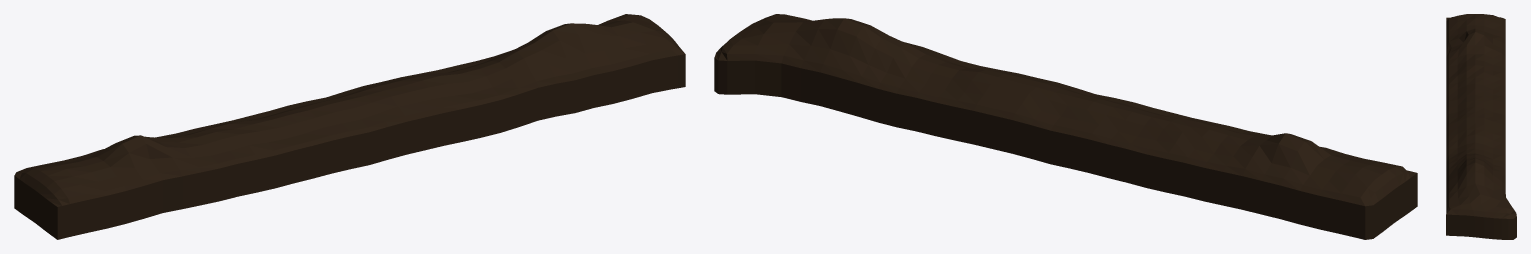
File: Island_D02_Long02_Model.fbx
The picture shows the model from 3 angles, left to right: view 1: azimuth 30°, elevation 25°; view 2: azimuth 150°, elevation 25°; view 3: azimuth 270°, elevation 25°; orthographic projection. The views are drawn at different scales.
Visible parts, largest first — view 1: Island_D_Long02; view 2: Island_D_Long02; view 3: Island_D_Long02.
Part boxes in pixels (box(x1,y1,x2,y2)): Island_D_Long02: box(14, 14, 685, 239); Island_D_Long02: box(714, 14, 1417, 239); Island_D_Long02: box(1446, 14, 1516, 239).
Size of the model in its own units: 276 by 30.34 by 41.33.
